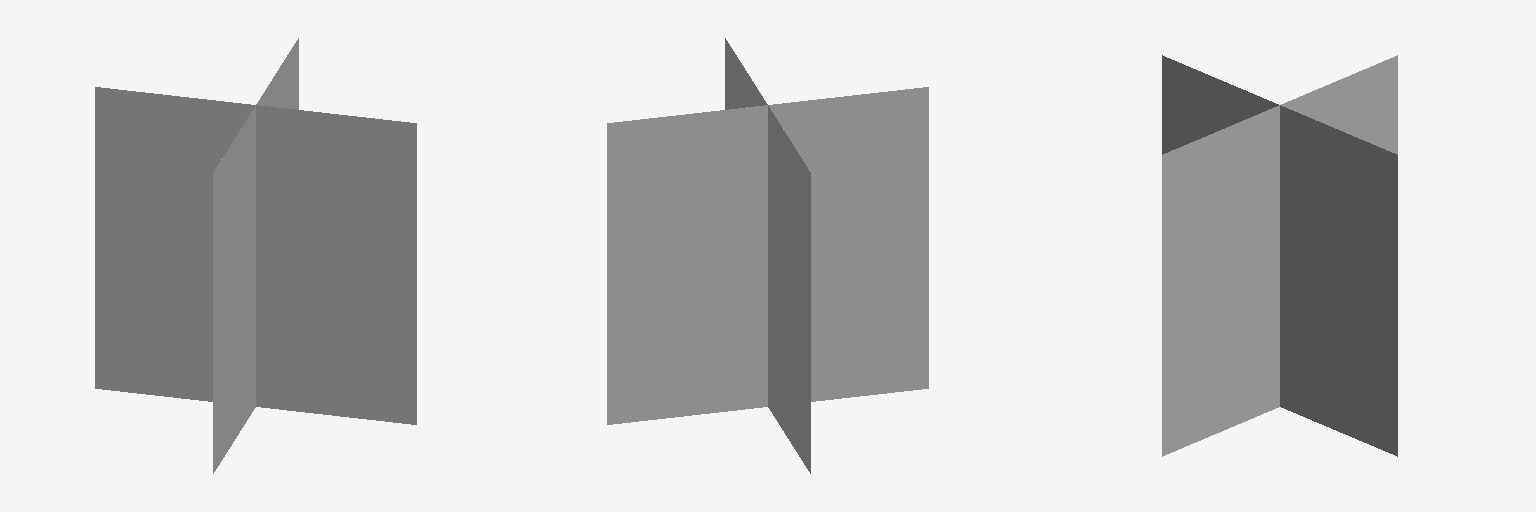
File: strawberry_bush_age1.obj
The picture shows the model from 3 angles: view 1: azimuth 30°, elevation 25°; view 2: azimuth 150°, elevation 25°; view 3: azimuth 270°, elevation 25°; orthographic projection.
Size of the model in its own units: 0.7072 by 1 by 0.7072.